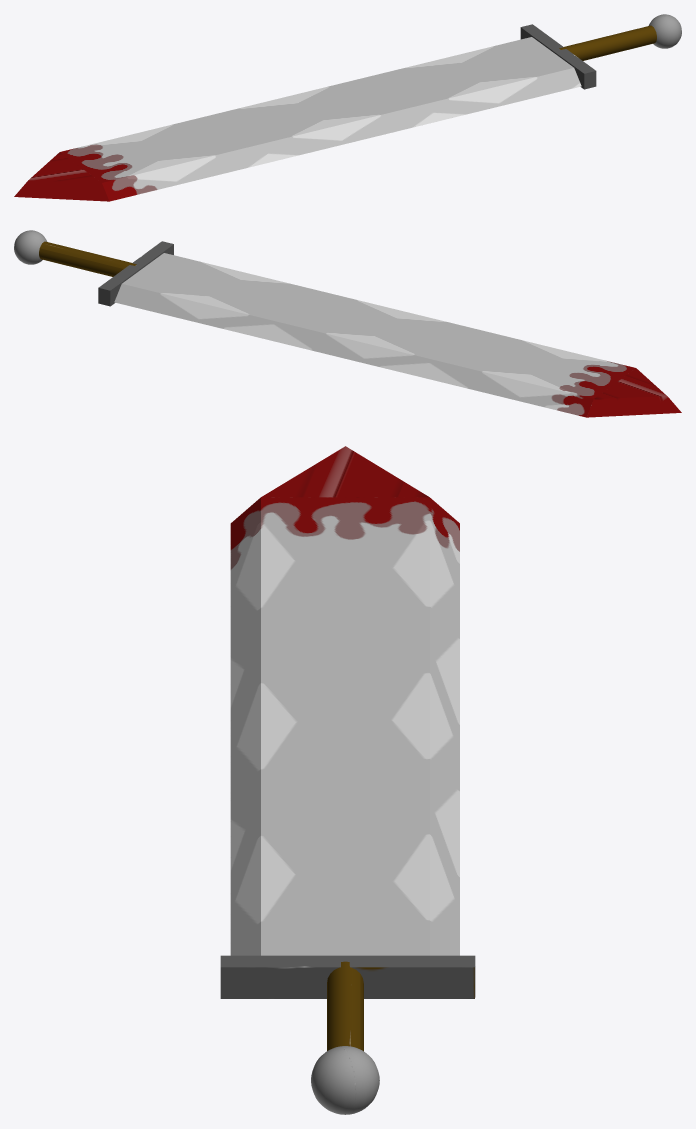
Rendered from giantSwordTextured.fbx.
3 renders of one model, top to bottom at view 1: azimuth 30°, elevation 25°; view 2: azimuth 150°, elevation 25°; view 3: azimuth 270°, elevation 25°, orthographic. The views are drawn at different scales.
Visible parts, largest first — view 1: pasted__pasted__pCube1, pasted__pasted__pCylinder1, pasted__pasted__pCube2, pasted__pasted__pSphere1; view 2: pasted__pasted__pCube1, pasted__pasted__pCylinder1, pasted__pasted__pCube2, pasted__pasted__pSphere1; view 3: pasted__pasted__pCube1, pasted__pasted__pCube2, pasted__pasted__pSphere1, pasted__pasted__pCylinder1.
Part boxes in pixels (x1,y1,x2,y2): pasted__pasted__pCube1: (14, 37, 581, 201); pasted__pasted__pCylinder1: (559, 25, 656, 60); pasted__pasted__pCube2: (520, 24, 596, 89); pasted__pasted__pSphere1: (648, 14, 681, 48); pasted__pasted__pCube1: (114, 253, 681, 417); pasted__pasted__pCylinder1: (39, 241, 136, 276); pasted__pasted__pCube2: (98, 241, 173, 306); pasted__pasted__pSphere1: (14, 230, 47, 264); pasted__pasted__pCube1: (230, 446, 459, 955); pasted__pasted__pCube2: (220, 955, 475, 998); pasted__pasted__pSphere1: (311, 1046, 379, 1114); pasted__pasted__pCylinder1: (327, 961, 363, 1051).
Size of the model in its own units: 9.71 by 0.4355 by 1.61.
